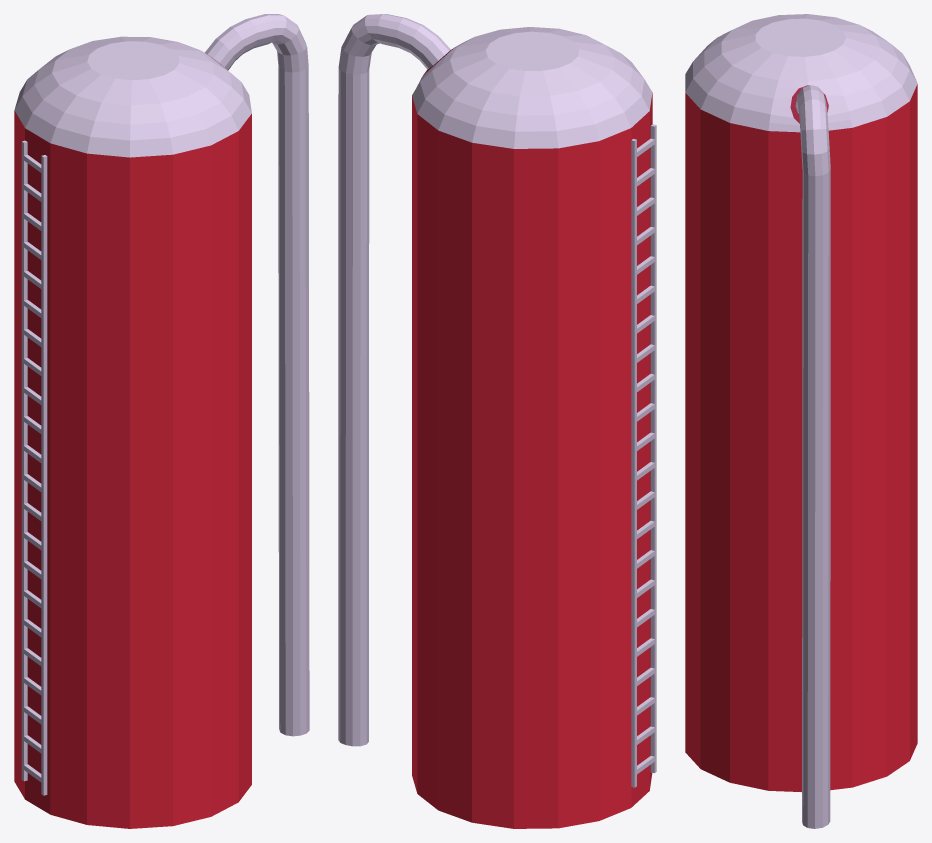
The model's file is Silo.fbx.
3 views of the same model, side by side, from view 1: azimuth 30°, elevation 25°; view 2: azimuth 150°, elevation 25°; view 3: azimuth 270°, elevation 25° (orthographic). The views are drawn at different scales.
Visible parts, largest first — view 1: Cylinder, Cube; view 2: Cylinder, Cube; view 3: Cylinder.
Boxes of the visible parts, bbox=[...] form: Cylinder: bbox=[14, 14, 309, 828]; Cube: bbox=[21, 140, 47, 795]; Cylinder: bbox=[338, 14, 652, 828]; Cube: bbox=[631, 124, 656, 787]; Cylinder: bbox=[685, 14, 917, 828].
Size of the model in its own units: 546 by 1312 by 388.
